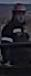helmet: (12, 4, 27, 14)
vest: (1, 20, 31, 64)
